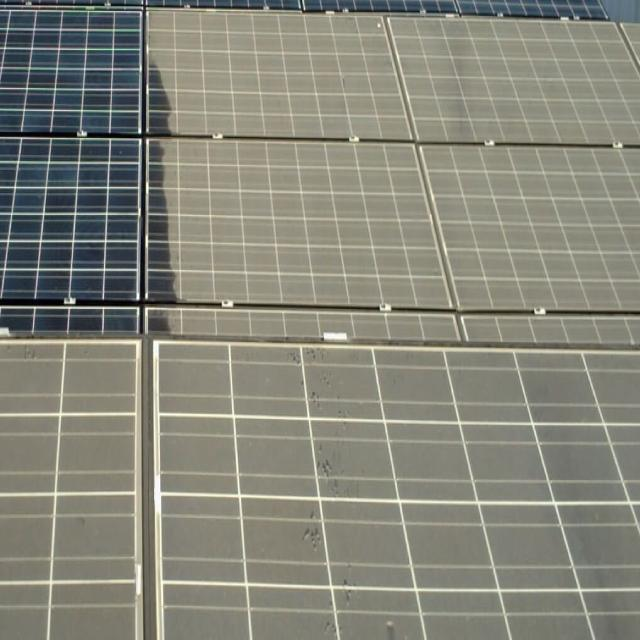clean-solar-panel: (0, 10, 144, 335)
